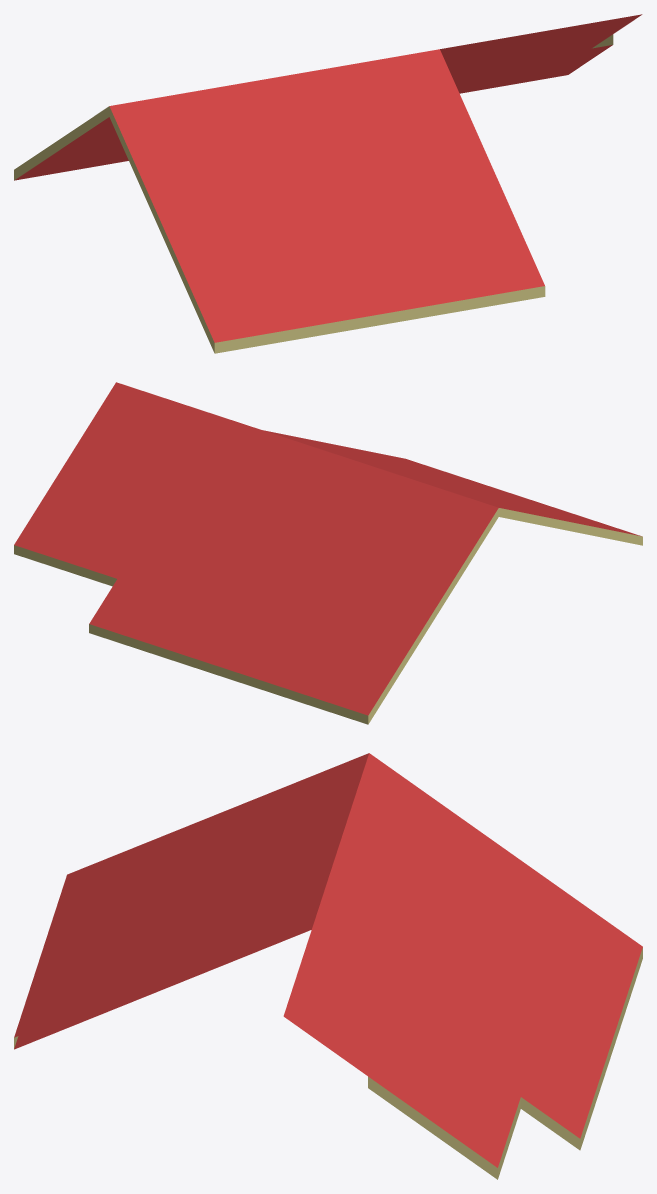
3 views of the same model, one above another, from view 1: azimuth 30°, elevation 25°; view 2: azimuth 150°, elevation 25°; view 3: azimuth 270°, elevation 25° (orthographic). The views are drawn at different scales.
Bounding box in the file's own units: 5.31 × 4.81 × 1.6.
